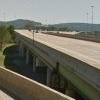Bridge: (8, 18, 99, 87)
